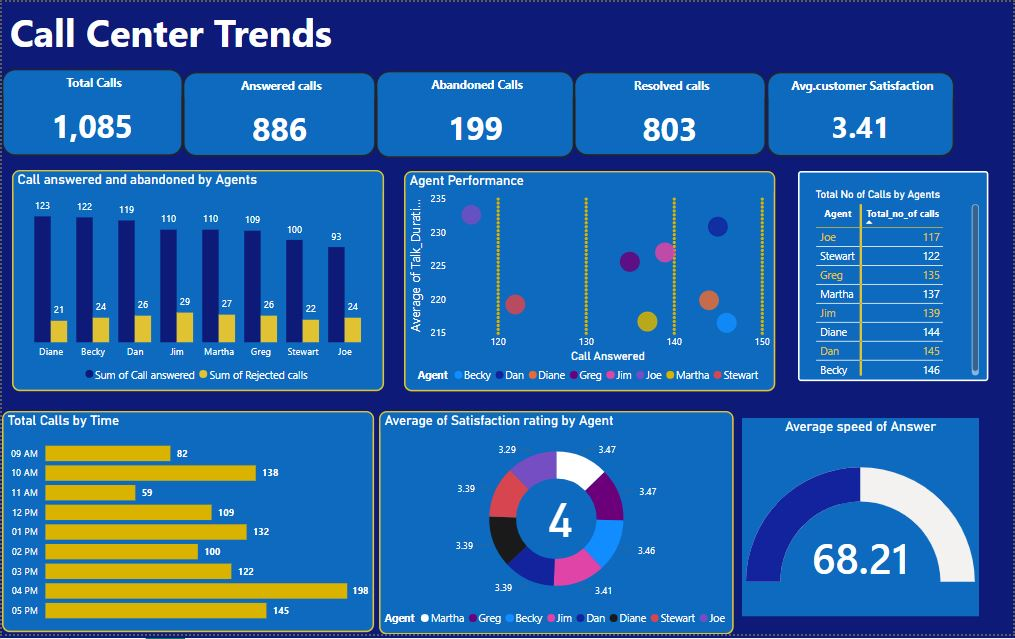

The page's visual inventory and layout, read from the dashboard file:
{"tool":"powerbi","page":{"name":"Page 1","canvas":[1280,800],"ordinal":0},"visuals":[{"type":"textbox","box":[0,0,1279.7,74.7],"z":0},{"type":"cardVisual","title":"Answered calls","fields":{"Data":["Sheet1.Call answered"]},"box":[228.6,88.6,244.3,107.1],"z":1000},{"type":"cardVisual","title":"Abandoned Calls","fields":{"Data":["Sheet1.Rejected calls"]},"box":[472.9,87.1,251.4,110],"z":2000},{"type":"cardVisual","title":"Resolved calls","fields":{"Data":["Sheet1.Issue Resolved"]},"box":[724.3,88.6,242.9,105.7],"z":3000},{"type":"cardVisual","title":"Total Calls","fields":{"Data":["Sheet1.Formatted_Value"]},"box":[0,84.3,228.6,110],"z":4000},{"type":"clusteredColumnChart","title":"Call answered and abandoned by Agents","fields":{"Category":["Sheet1.Agent"],"Y":["Sheet1.Call answered","Sheet1.Rejected calls"]},"box":[13.1,213.1,470.7,279.8],"z":5000},{"type":"tableEx","title":"Total No of Calls by Agents","fields":{"Values":["Sheet1.Agent","Sheet1.Total_no_of calls"]},"box":[1007.7,213.8,241,265.5],"z":6000},{"type":"gauge","title":"Average speed of Answer","fields":{"Y":["Sheet1.Speed of answer in seconds"]},"box":[936.9,527,299.6,250.6],"z":7000},{"type":"scatterChart","title":"Agent Performance","fields":{"Y":["Sheet1.Talk_Duration_Seconds"],"X":["Sheet1.Call answered"],"Series":["Sheet1.Agent"],"Size":["Sheet1.Satisfaction rating"]},"box":[509.3,214.2,470.2,278.9],"z":8000},{"type":"donutChart","fields":{"Y":["Sheet1.Satisfaction rating"],"Category":["Sheet1.Agent"]},"box":[476.6,517.4,449.4,283.2],"z":9000},{"type":"card","fields":{"Values":["Sheet1.Satisfaction-target_rating"]},"box":[550.3,526.7,311.9,242.8],"z":10000},{"type":"cardVisual","title":"Avg.customer Satisfaction","fields":{"Data":["Sheet1.Satisfaction rating"]},"box":[968.6,88.6,237.1,107.1],"z":11000},{"type":"barChart","title":"Total Calls by Time","fields":{"Category":["Sheet1.Call_Hour"],"Y":["Sheet1.Total_no_of calls"]},"box":[0,517.1,471.4,280],"z":12000},{"type":"shape","box":[0,368.6,1280,280],"z":13000},{"type":"shape","box":[0,67.1,1280,280],"z":14000}]}

Visuals, with their boxes in screenshot pixels (x1, y1, x2, y2), scaled from the page's 1280x800 canvas onto the 1015x639 screenshot:
textbox: <box>0,0,1014,60</box>
"Answered calls" cardVisual: <box>181,71,375,156</box>
"Abandoned Calls" cardVisual: <box>375,70,574,157</box>
"Resolved calls" cardVisual: <box>574,71,767,155</box>
"Total Calls" cardVisual: <box>0,67,181,155</box>
"Call answered and abandoned by Agents" clusteredColumnChart: <box>10,170,384,394</box>
"Total No of Calls by Agents" tableEx: <box>799,171,990,383</box>
"Average speed of Answer" gauge: <box>743,421,981,621</box>
"Agent Performance" scatterChart: <box>404,171,777,394</box>
donutChart - Sheet1.Satisfaction rating x Sheet1.Agent: <box>378,413,734,638</box>
card - Sheet1.Satisfaction-target_rating: <box>436,421,684,615</box>
"Avg.customer Satisfaction" cardVisual: <box>768,71,956,156</box>
"Total Calls by Time" barChart: <box>0,413,374,637</box>
shape: <box>0,294,1014,518</box>
shape: <box>0,54,1014,277</box>
